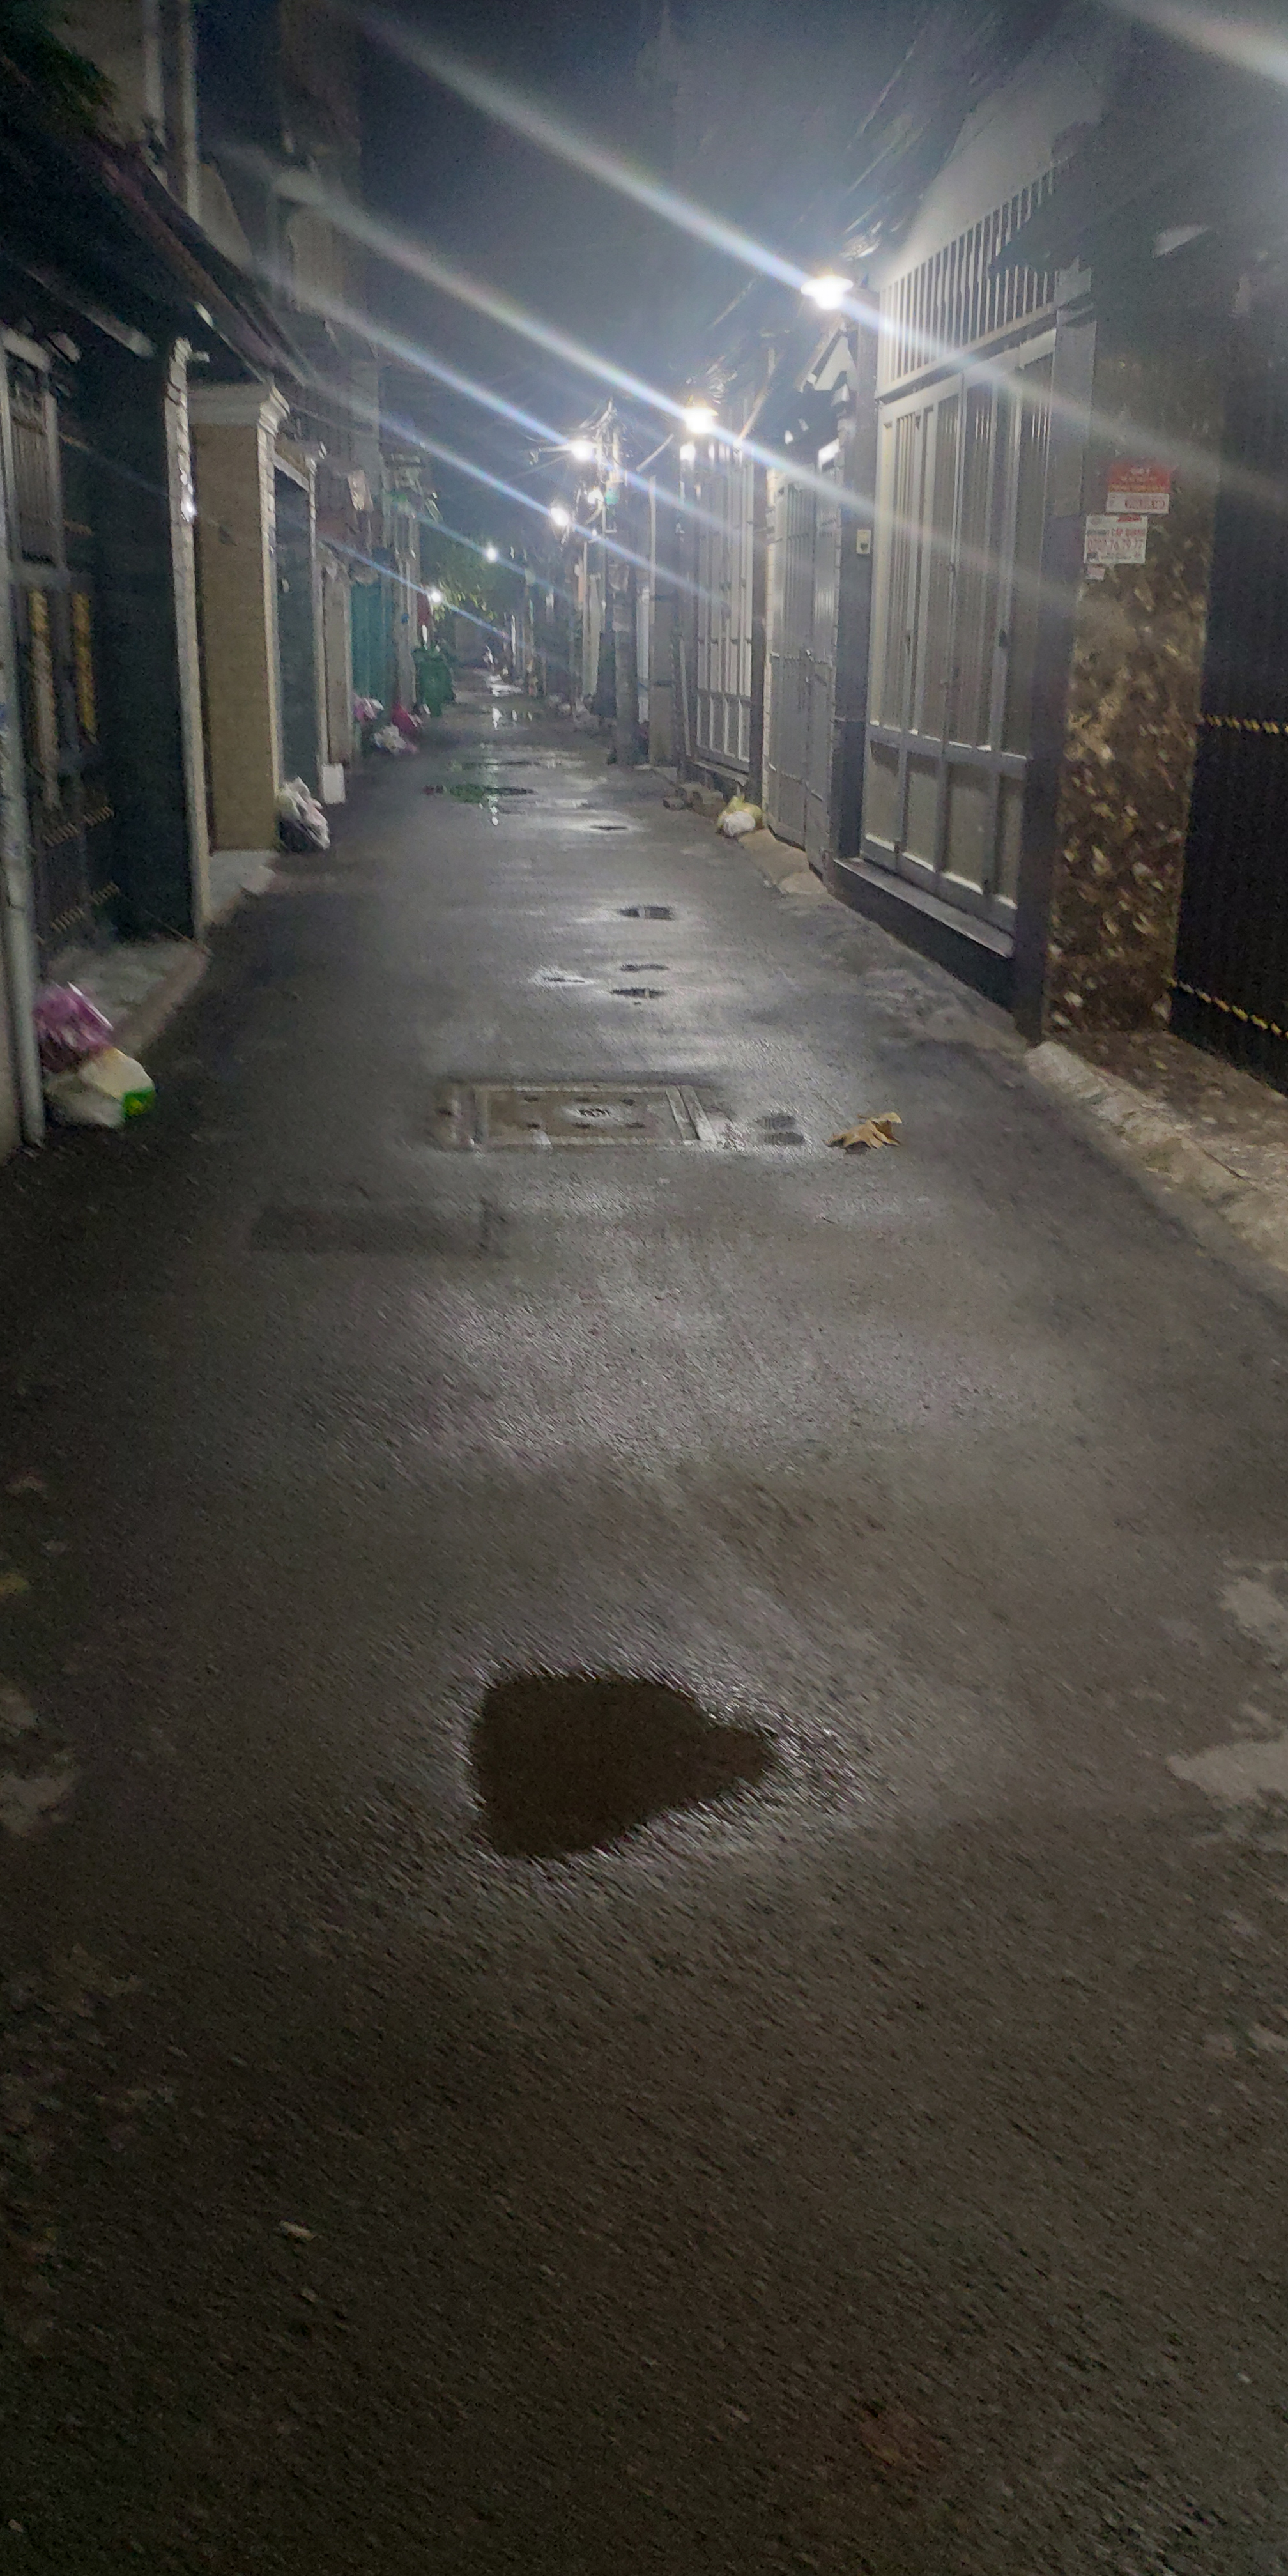hole: (417, 1643, 848, 1879), (746, 1099, 812, 1158), (444, 757, 585, 774), (422, 782, 536, 802), (608, 899, 683, 925), (605, 981, 674, 1005), (608, 958, 677, 977), (531, 969, 593, 989), (585, 820, 631, 835), (483, 805, 504, 825)
